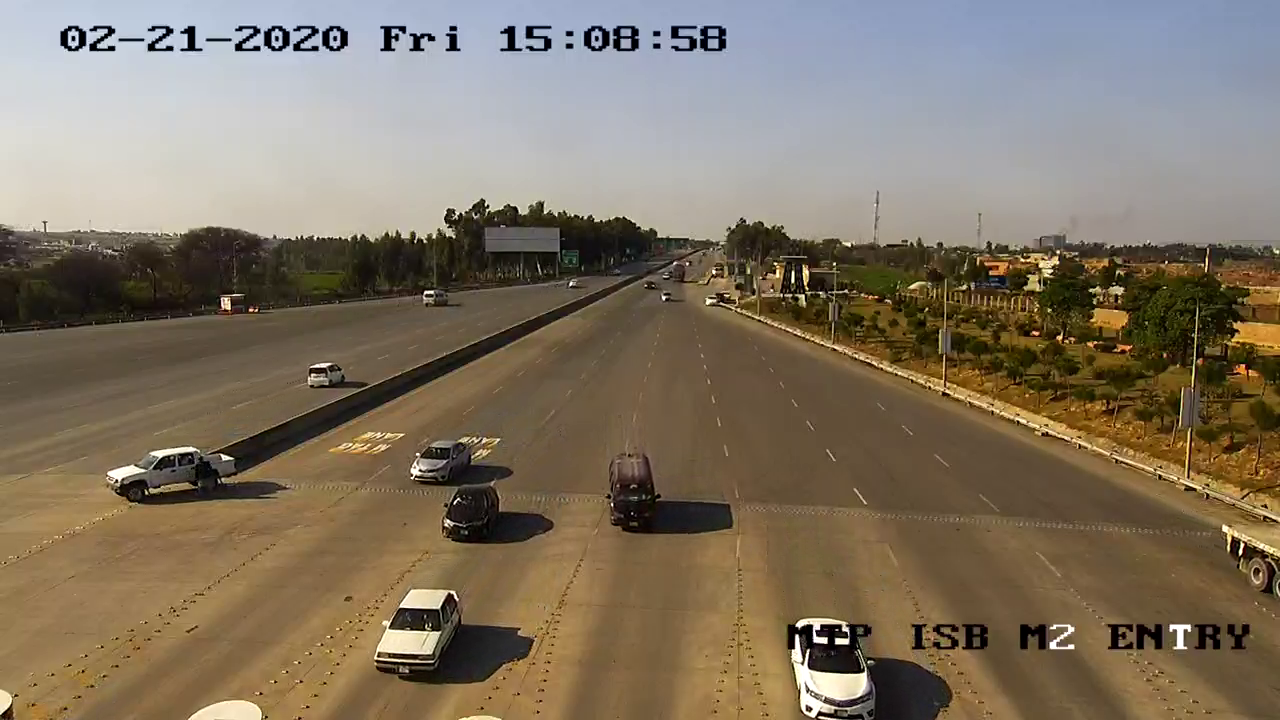f1: (355, 568, 479, 684), (434, 472, 505, 542)
f2: (592, 453, 668, 540)
